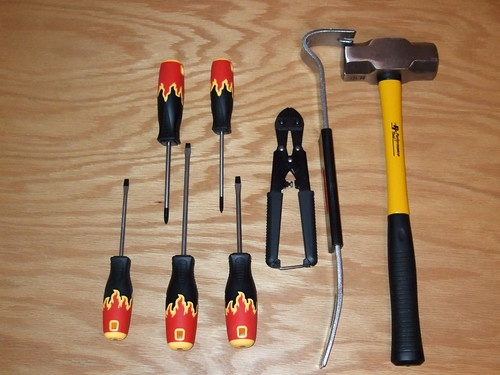hammer: (344, 35, 443, 370)
